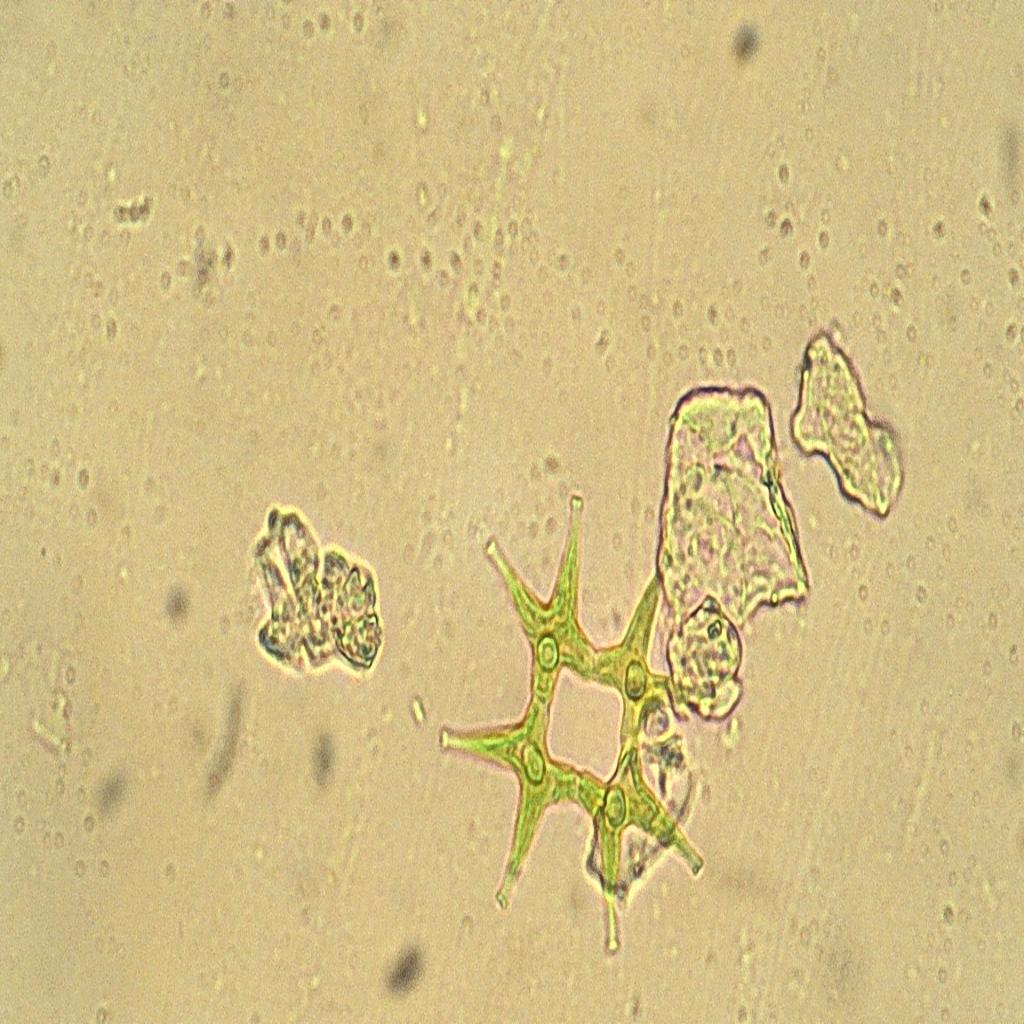Pediastrum_75TH: (420, 486, 741, 960)
